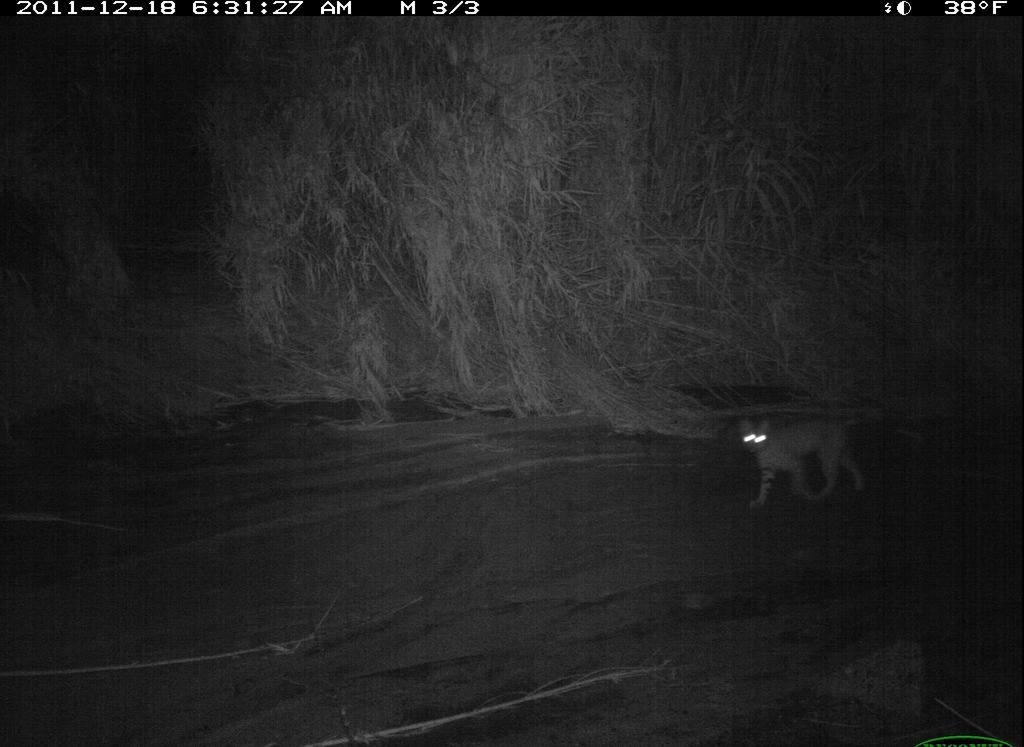bobcat: (733, 409, 876, 511)
